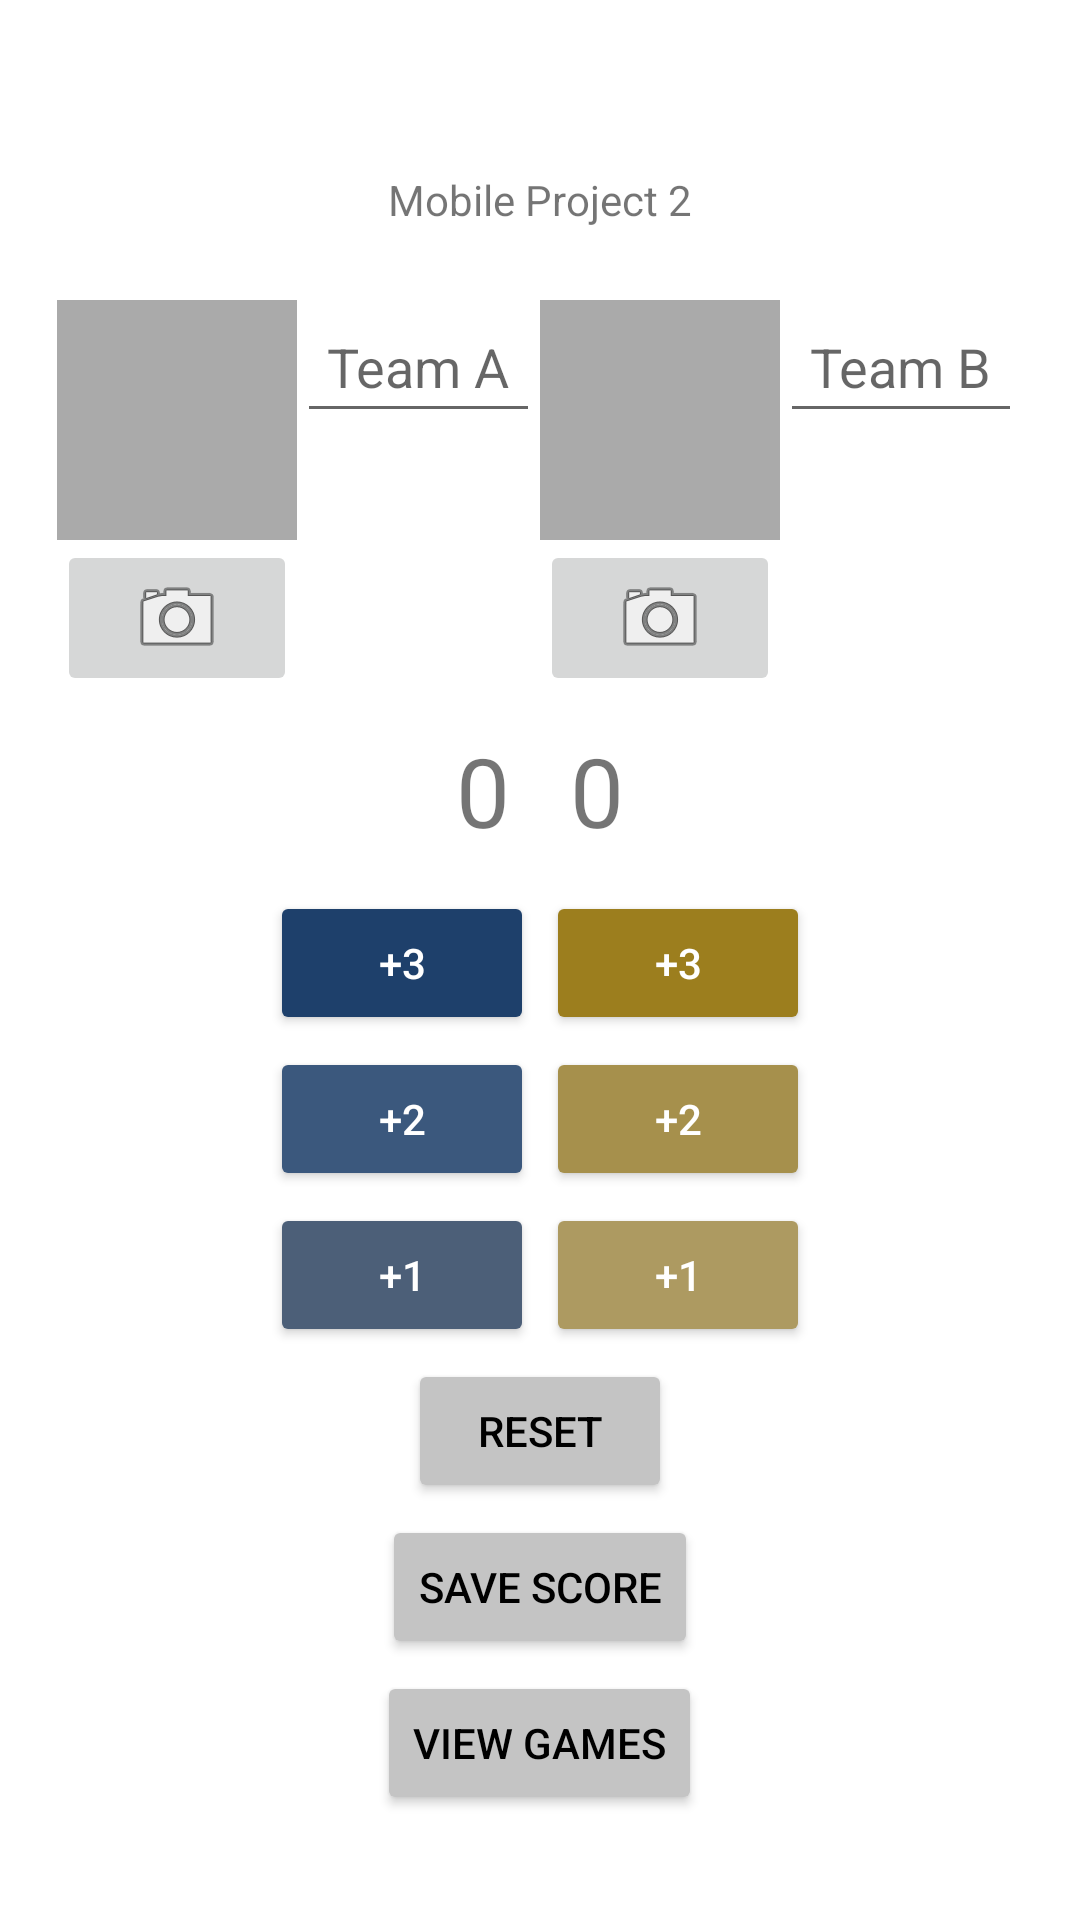

Where to tap for icons on this 1080w x 1920h app screen, as [x,y]:
camera: [177,618], [660,618]
